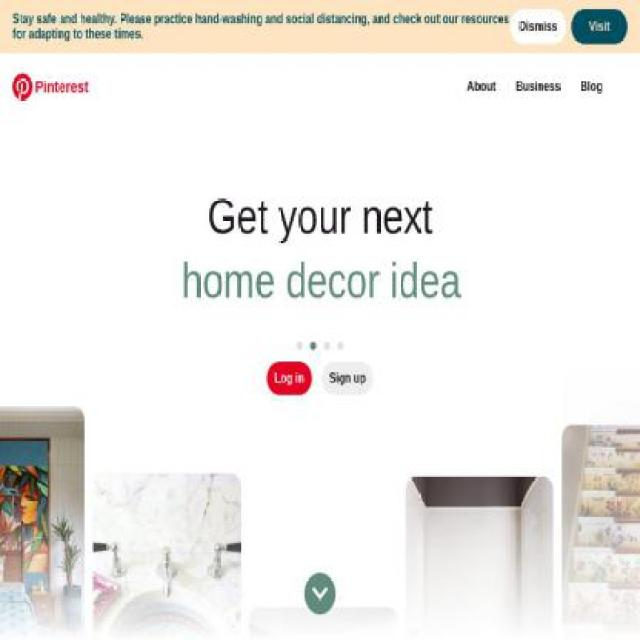button: (13, 12, 510, 42), (566, 9, 628, 45), (570, 9, 628, 45), (510, 9, 567, 45), (321, 362, 374, 396), (266, 362, 312, 396), (304, 587, 336, 630), (516, 79, 561, 95), (467, 79, 496, 95), (580, 79, 603, 95)
